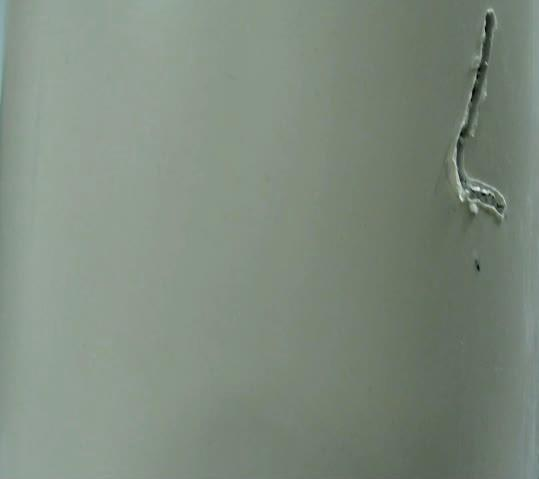fengxi: (442, 4, 513, 229)
